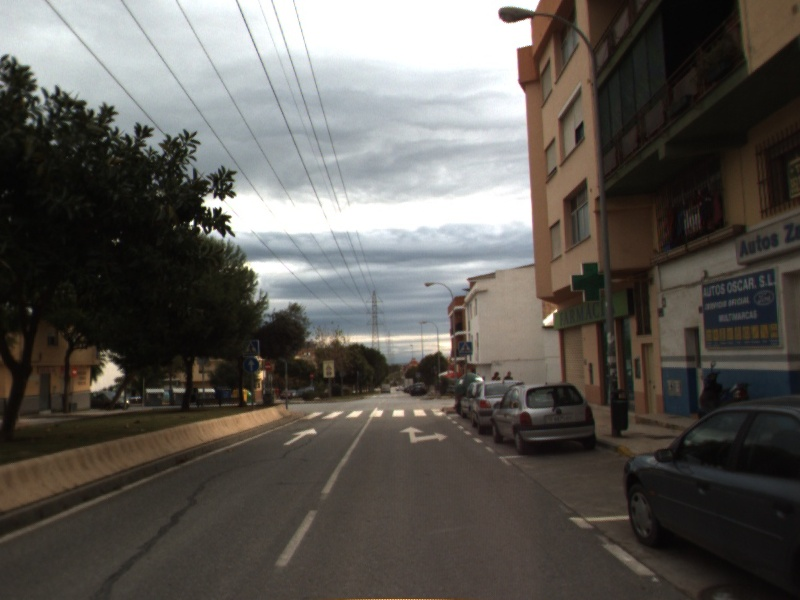STRAIGHT: (281, 426, 319, 447)
STRAIGHT_RIGHT: (398, 424, 450, 445)
